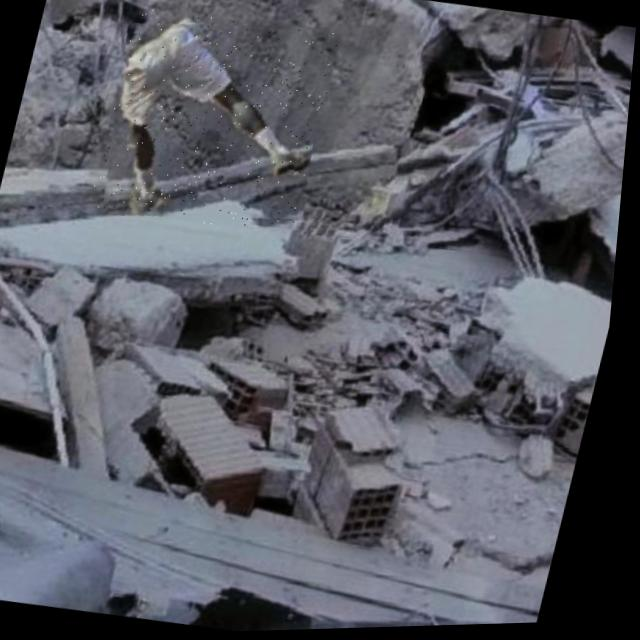Person in Rubble: (90, 4, 346, 241)
